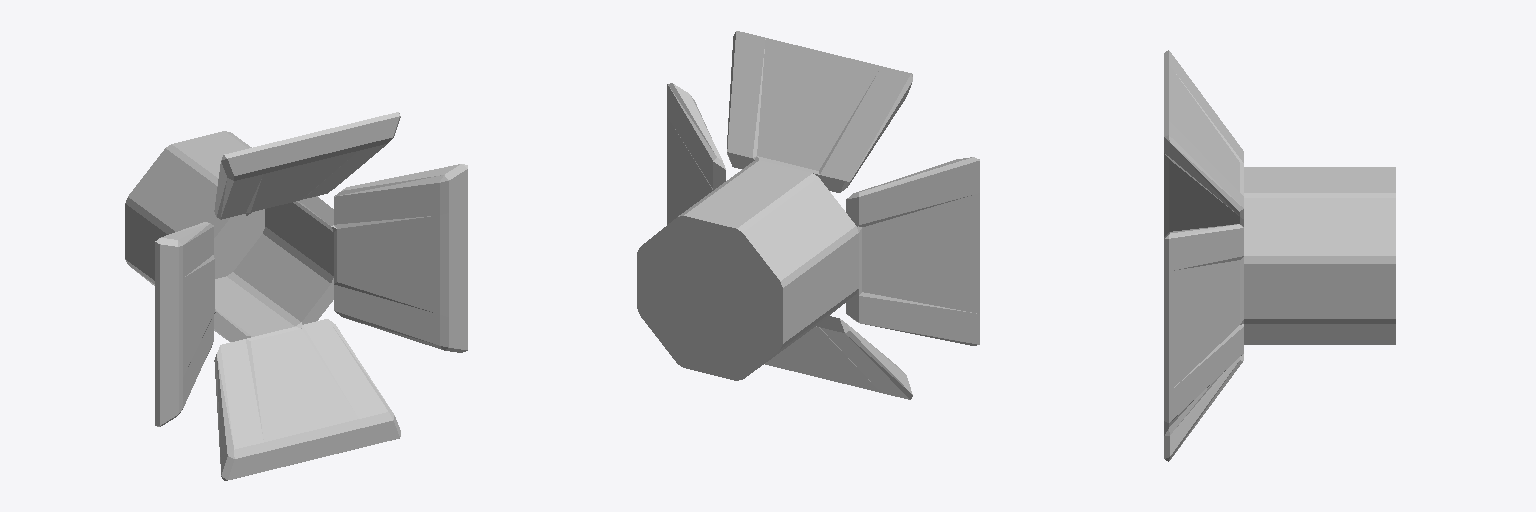
Rendered from directional_light_icon.obj.
3 renders of one model, left to right at view 1: azimuth 30°, elevation 25°; view 2: azimuth 150°, elevation 25°; view 3: azimuth 270°, elevation 25°, orthographic.
Parts seen in each view (by area): view 1: SpotLight_Mesh_Cylinder.001; view 2: SpotLight_Mesh_Cylinder.001; view 3: SpotLight_Mesh_Cylinder.001.
Boxes of the visible parts, x1=… form: SpotLight_Mesh_Cylinder.001: x1=125, y1=112, x2=467, y2=480; SpotLight_Mesh_Cylinder.001: x1=637, y1=31, x2=979, y2=399; SpotLight_Mesh_Cylinder.001: x1=1164, y1=50, x2=1395, y2=461.
Size of the model in its own units: 2.09 by 2.09 by 1.34.